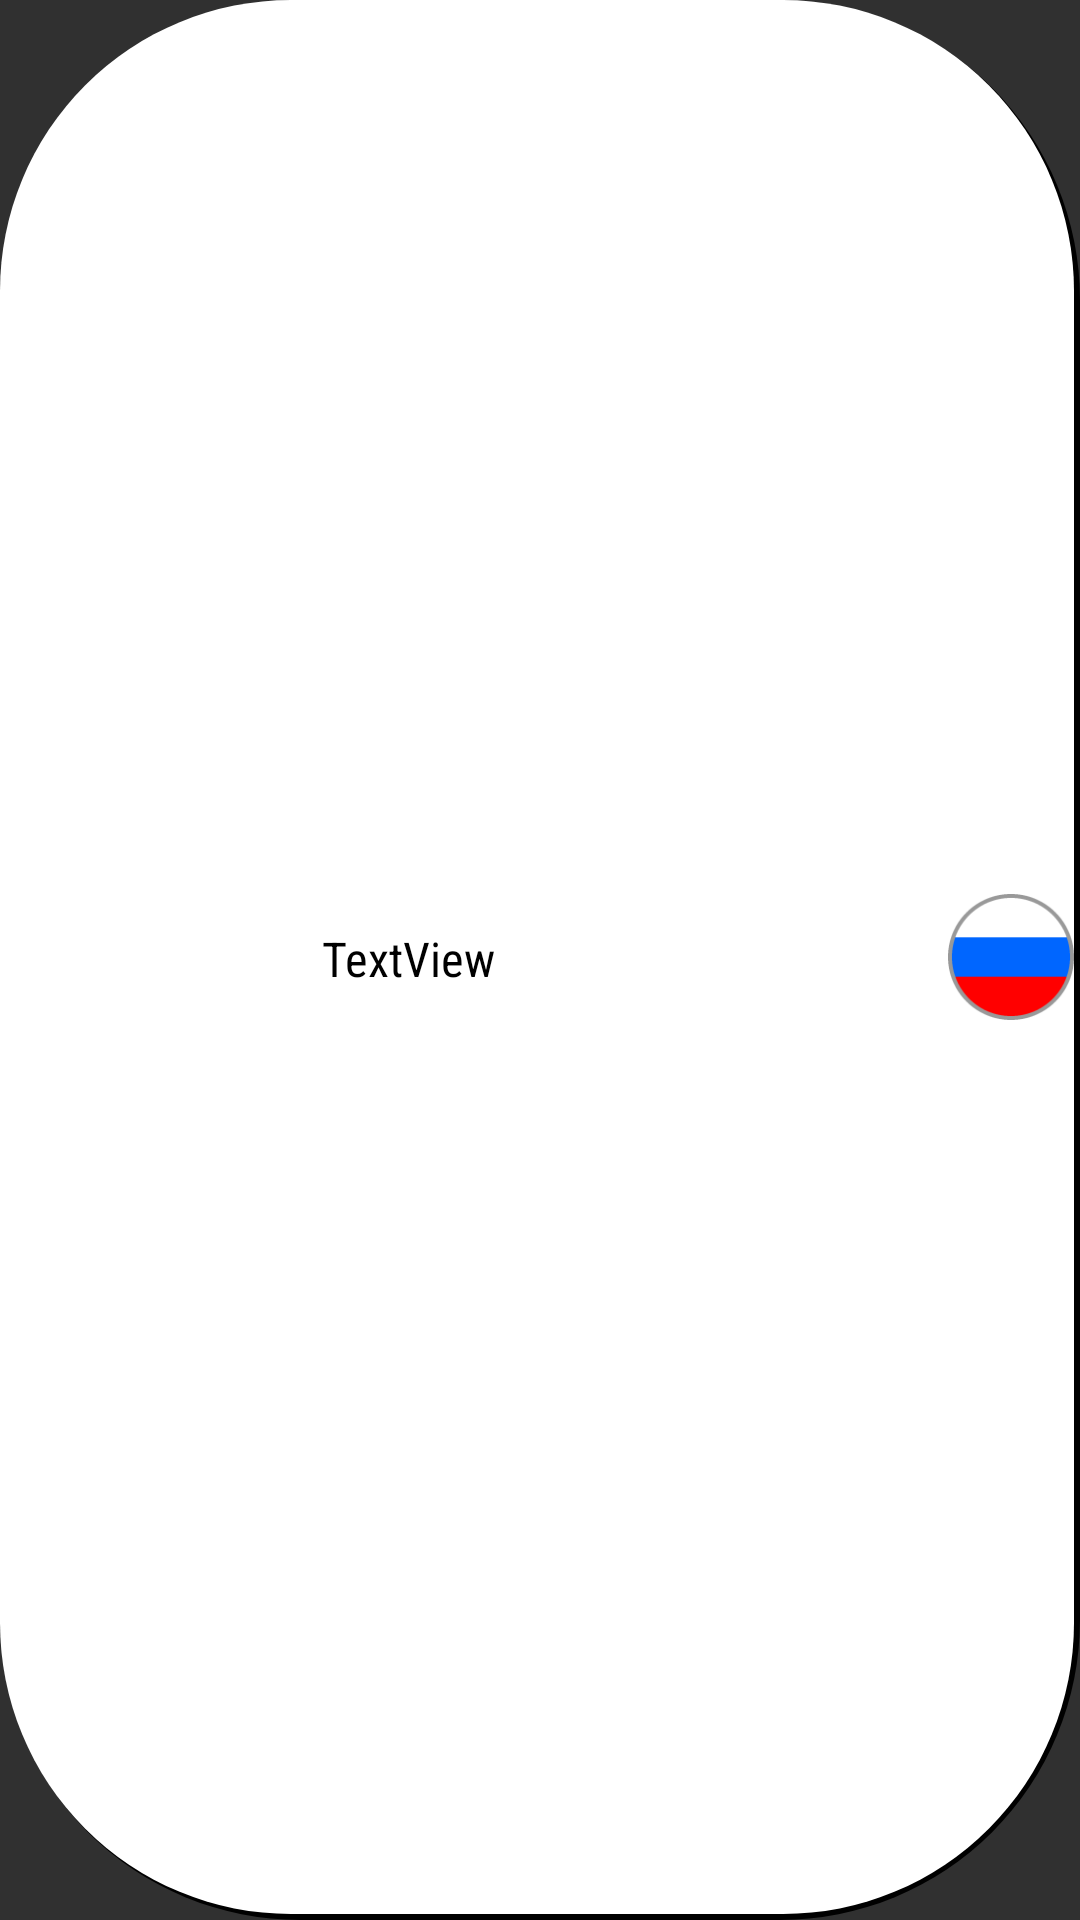

Named icons in this screenshot (1080w x 1920h) and their centers, (x,y):
rus: (1011,957)
